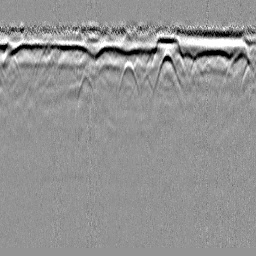cavity: (117, 59, 140, 95)
